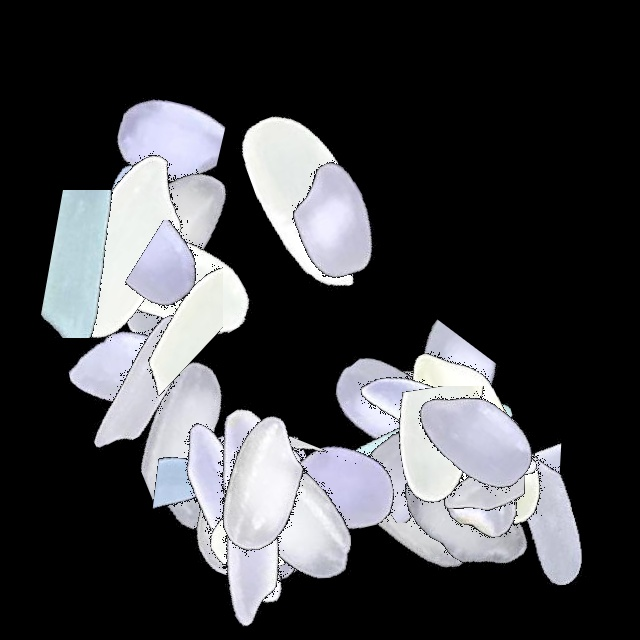Broken: (88, 332, 338, 506), (13, 48, 263, 216), (381, 436, 631, 598), (354, 405, 604, 564), (348, 282, 502, 532), (0, 190, 250, 338), (324, 386, 574, 529), (310, 381, 560, 523), (324, 386, 574, 527), (385, 343, 525, 593), (68, 453, 318, 590), (98, 177, 223, 427), (73, 220, 323, 345), (397, 358, 515, 608), (416, 358, 530, 608), (135, 435, 385, 547), (83, 446, 333, 556), (286, 427, 536, 529), (157, 437, 407, 529), (299, 444, 549, 531), (340, 324, 420, 574), (243, 345, 321, 595)
Full: (311, 289, 561, 539), (16, 162, 266, 412), (326, 322, 576, 572), (184, 75, 434, 325), (166, 390, 416, 640), (210, 98, 460, 348), (0, 247, 250, 497), (137, 390, 387, 640), (114, 378, 364, 628), (266, 279, 516, 529), (290, 390, 540, 640), (0, 109, 250, 359), (41, 107, 291, 357), (33, 162, 283, 412), (296, 329, 546, 579), (11, 258, 261, 508), (110, 390, 360, 640), (342, 390, 592, 640), (0, 126, 250, 376), (350, 310, 600, 560), (165, 390, 415, 640), (350, 355, 600, 605), (210, 365, 460, 615), (172, 390, 422, 640), (122, 390, 372, 640), (132, 359, 382, 609), (322, 301, 572, 551), (351, 313, 601, 563)
